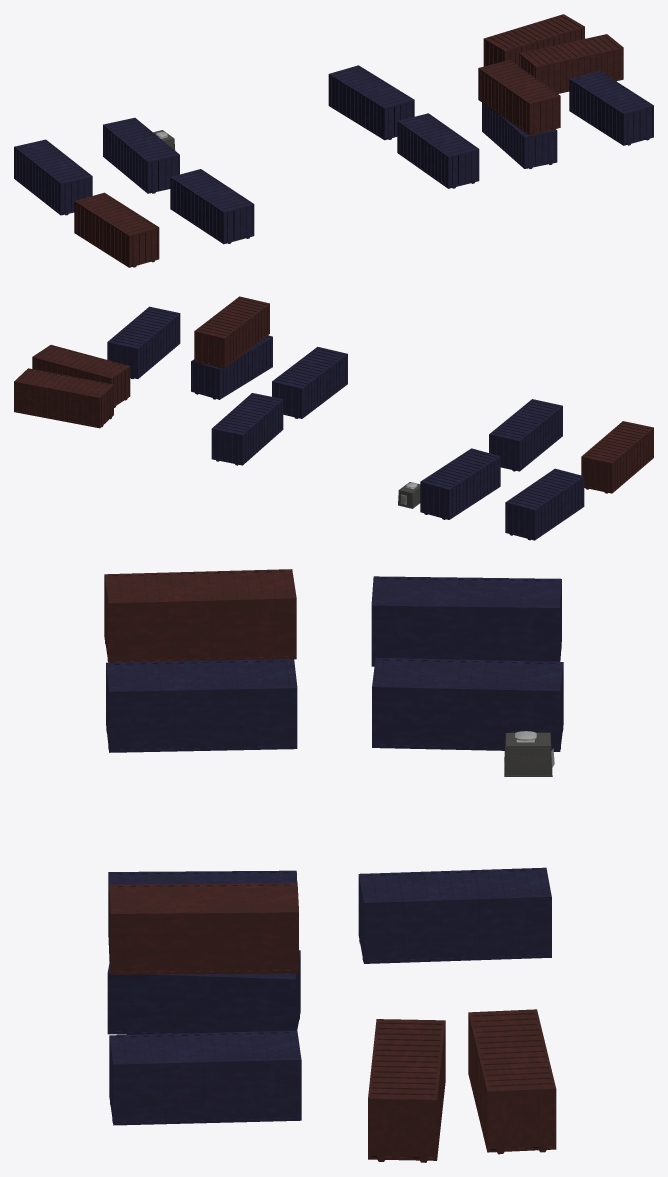
3 renders of one model, top to bottom at view 1: azimuth 30°, elevation 25°; view 2: azimuth 150°, elevation 25°; view 3: azimuth 270°, elevation 25°, orthographic. The views are drawn at different scales.
Visible parts, largest first — view 1: Container.010_Baked, Container.005_Baked, Container.007_Baked, Container.009_Baked, Container.001_Baked, Container_Baked, Container.006_Baked, Container.008_Baked, Container.003_Baked, Container.002_Baked, Container.004_Baked; view 2: Container.002_Baked, Container.006_Baked, Container.008_Baked, Container.009_Baked, Container_Baked, Container.010_Baked, Container.001_Baked, Container.007_Baked, Container.005_Baked, Container.003_Baked, Container.004_Baked, Detail1_Baked; view 3: Container_Baked, Container.005_Baked, Container.007_Baked, Container.009_Baked, Container.010_Baked, Container.006_Baked, Container.008_Baked, Container.004_Baked, Container.002_Baked, Container.003_Baked, Container.001_Baked, Detail1_Baked.
Part boxes in pixels (<box>): Container.010_Baked: <box>74,192,159,267</box>; Container.005_Baked: <box>569,70,653,145</box>; Container.007_Baked: <box>170,169,254,244</box>; Container.009_Baked: <box>478,60,560,135</box>; Container.001_Baked: <box>397,113,479,188</box>; Container_Baked: <box>328,65,414,140</box>; Container.006_Baked: <box>103,117,179,193</box>; Container.008_Baked: <box>14,139,92,215</box>; Container.003_Baked: <box>519,34,623,93</box>; Container.002_Baked: <box>483,14,584,66</box>; Container.004_Baked: <box>482,103,557,168</box>; Container.002_Baked: <box>14,368,113,428</box>; Container.006_Baked: <box>420,448,500,519</box>; Container.008_Baked: <box>505,468,584,540</box>; Container.009_Baked: <box>194,296,269,368</box>; Container_Baked: <box>211,393,283,465</box>; Container.010_Baked: <box>581,421,653,493</box>; Container.001_Baked: <box>272,346,347,418</box>; Container.007_Baked: <box>489,399,562,471</box>; Container.005_Baked: <box>107,306,180,378</box>; Container.003_Baked: <box>32,345,130,407</box>; Container.004_Baked: <box>191,335,272,399</box>; Detail1_Baked: <box>398,482,420,508</box>; Container_Baked: <box>358,867,551,963</box>; Container.005_Baked: <box>109,1030,301,1125</box>; Container.007_Baked: <box>106,659,297,752</box>; Container.009_Baked: <box>109,883,298,974</box>; Container.010_Baked: <box>104,569,296,662</box>; Container.006_Baked: <box>372,657,563,751</box>; Container.008_Baked: <box>371,576,561,666</box>; Container.004_Baked: <box>107,950,300,1034</box>; Container.002_Baked: <box>468,1009,556,1154</box>; Container.003_Baked: <box>368,1019,445,1162</box>; Container.001_Baked: <box>108,870,297,961</box>; Detail1_Baked: <box>504,731,554,776</box>.
Bounding box in the file's own units: 65.33 × 7.25 × 23.91.
12 materials, 12 textured.
